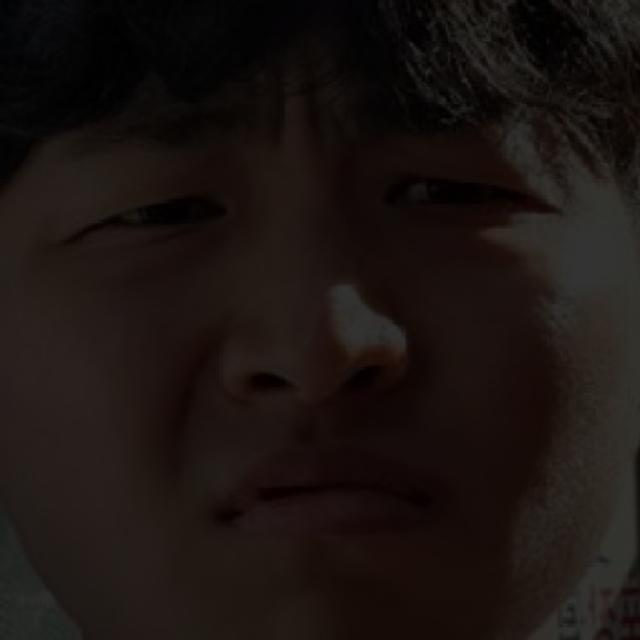Disgust: (20, 80, 598, 596)
